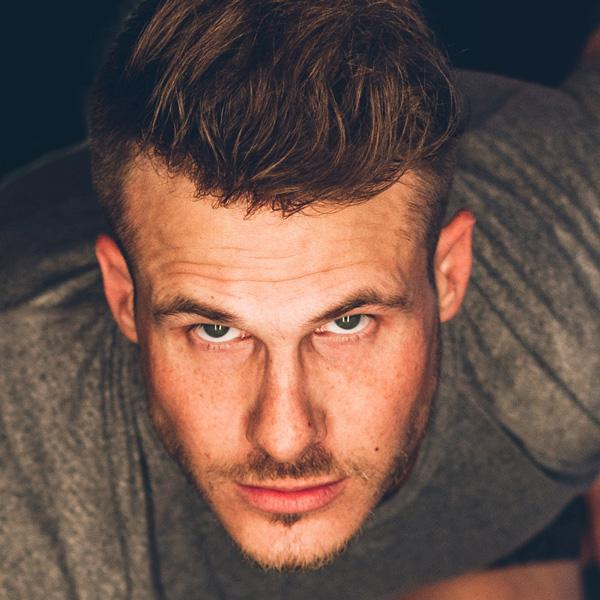Eyes: (172, 313, 261, 360), (311, 303, 388, 348)
